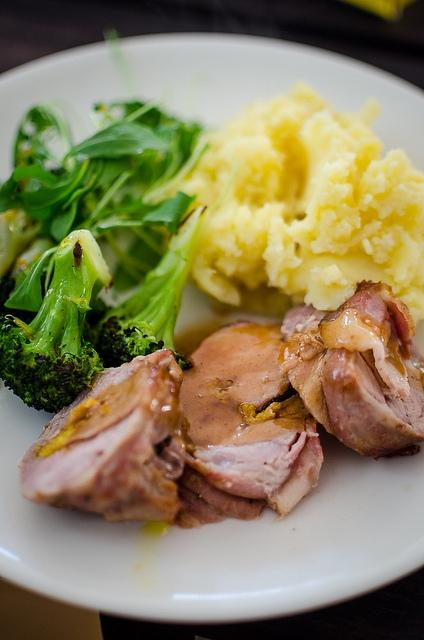broccoli: (82, 158, 237, 370), (1, 228, 114, 414)
